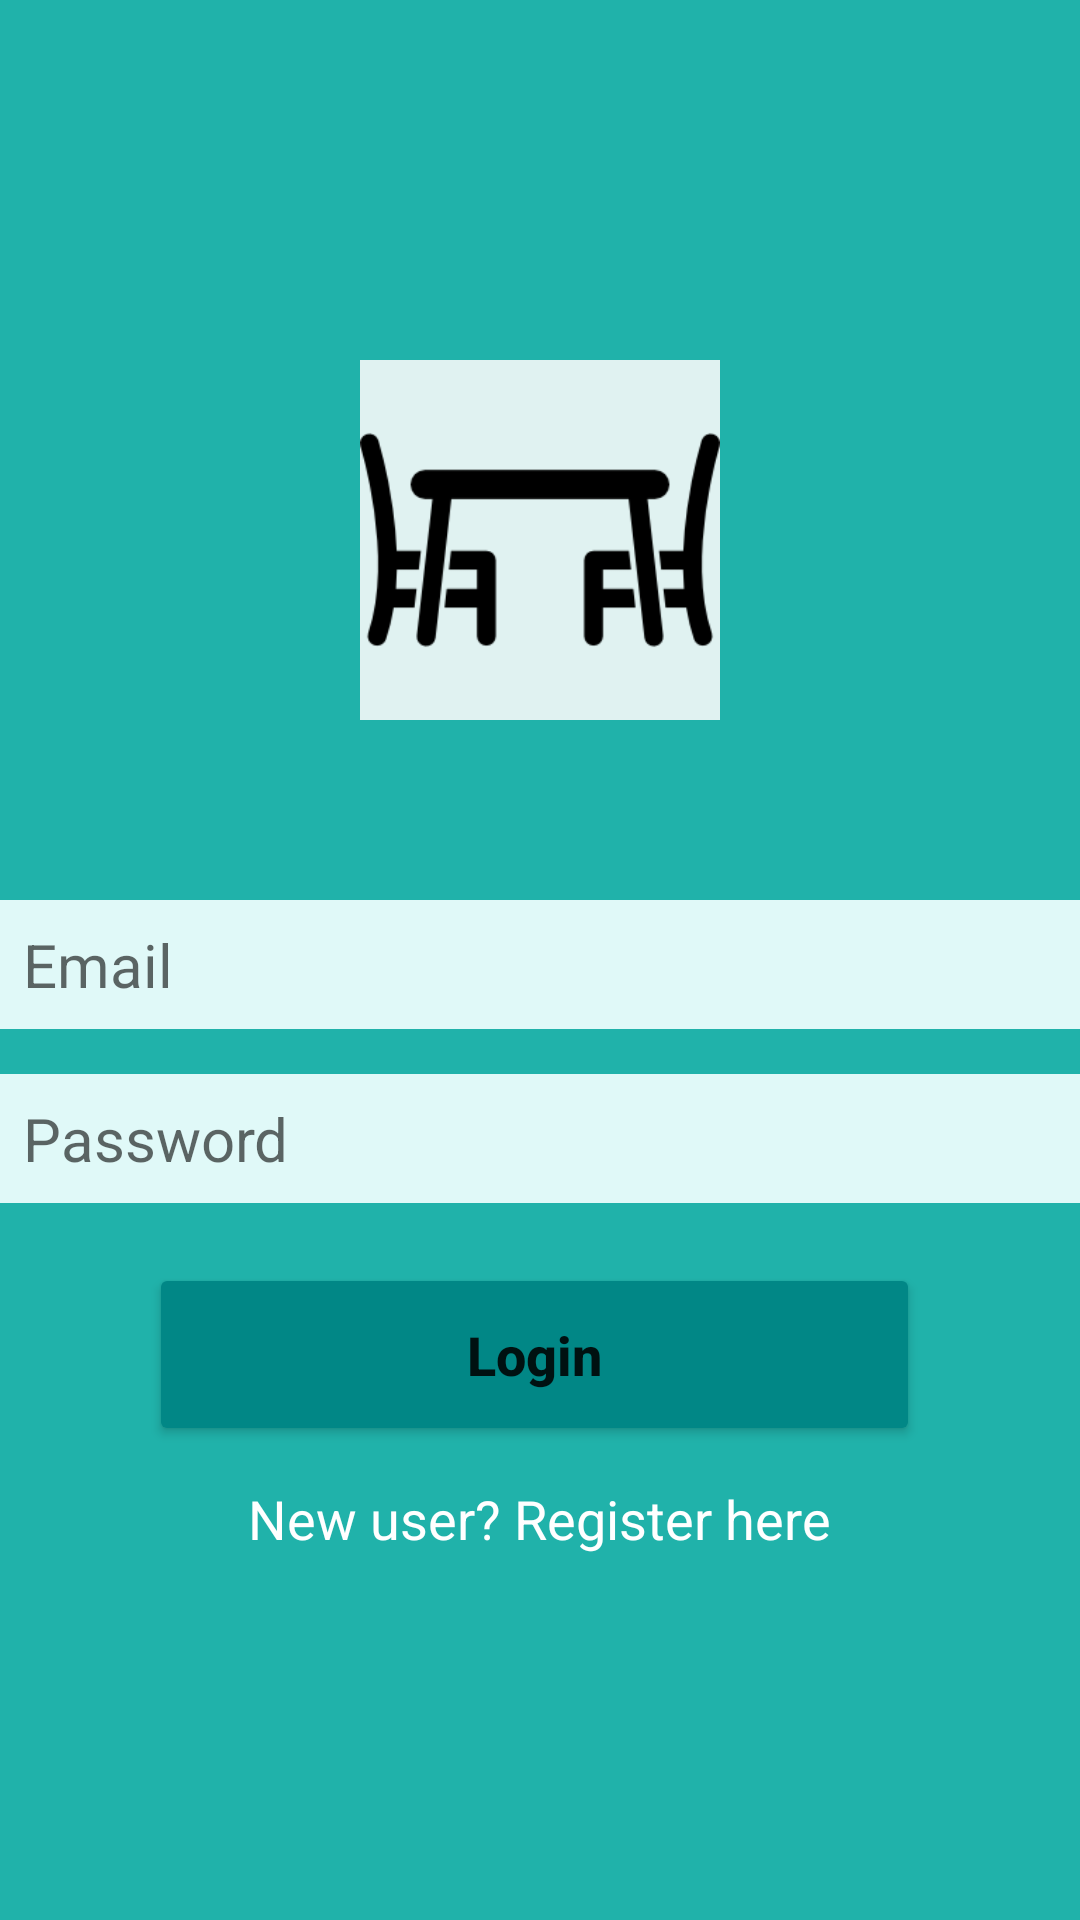

Icons on this 1080×1920 Android screen, each with its box as (x1, y1, x2, y2):
mess app: (360, 360, 720, 720)
